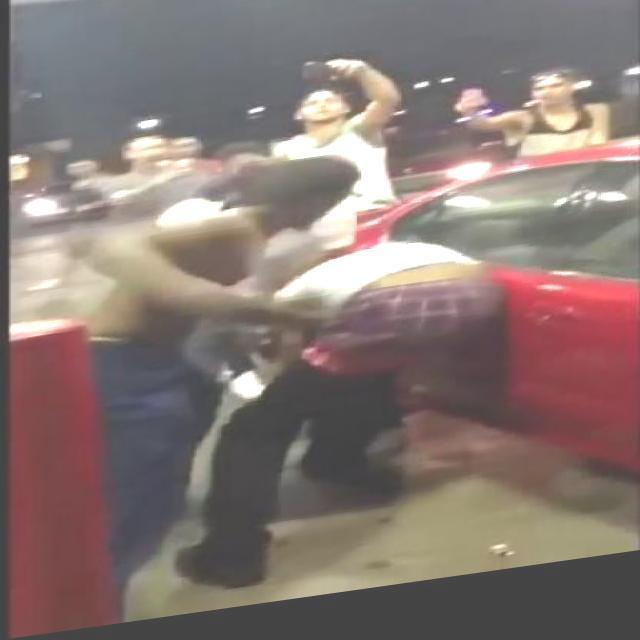fight: (101, 143, 504, 612)
